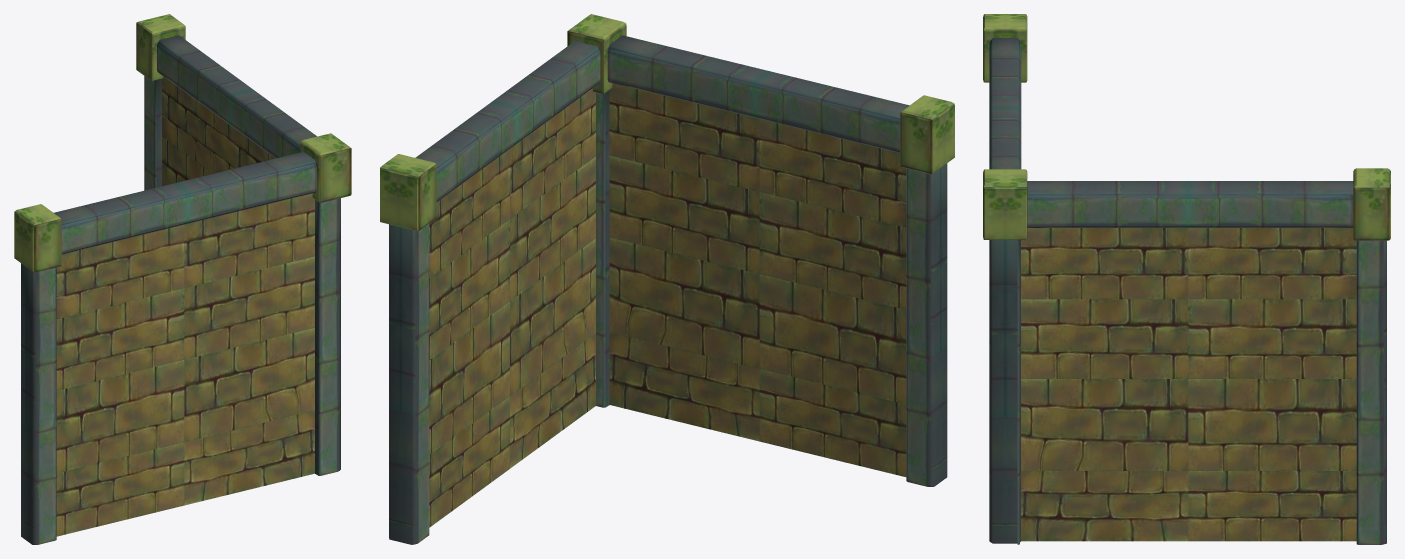
File: SM_WallCorner.fbx
3 renders of one model, left to right at view 1: azimuth 30°, elevation 25°; view 2: azimuth 150°, elevation 25°; view 3: azimuth 270°, elevation 25°, orthographic. The views are drawn at different scales.
Parts seen in each view (by area): view 1: SM_WallCorner; view 2: SM_WallCorner; view 3: SM_WallCorner.
Boxes of the visible parts, left/top/right/bottom form: SM_WallCorner: left=14, top=14, right=351, bottom=544; SM_WallCorner: left=380, top=14, right=954, bottom=544; SM_WallCorner: left=983, top=14, right=1390, bottom=544.
Bounding box in the file's own units: 681 × 661 × 676.
